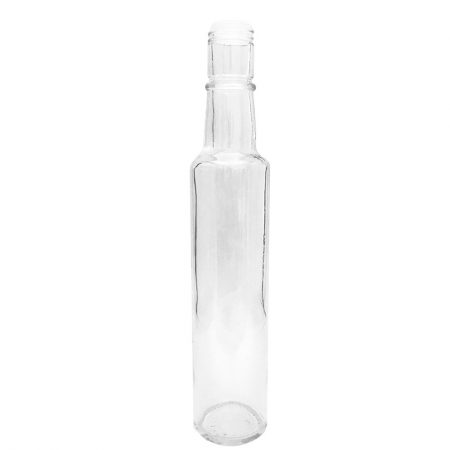glass_bottle: (188, 11, 272, 448)
